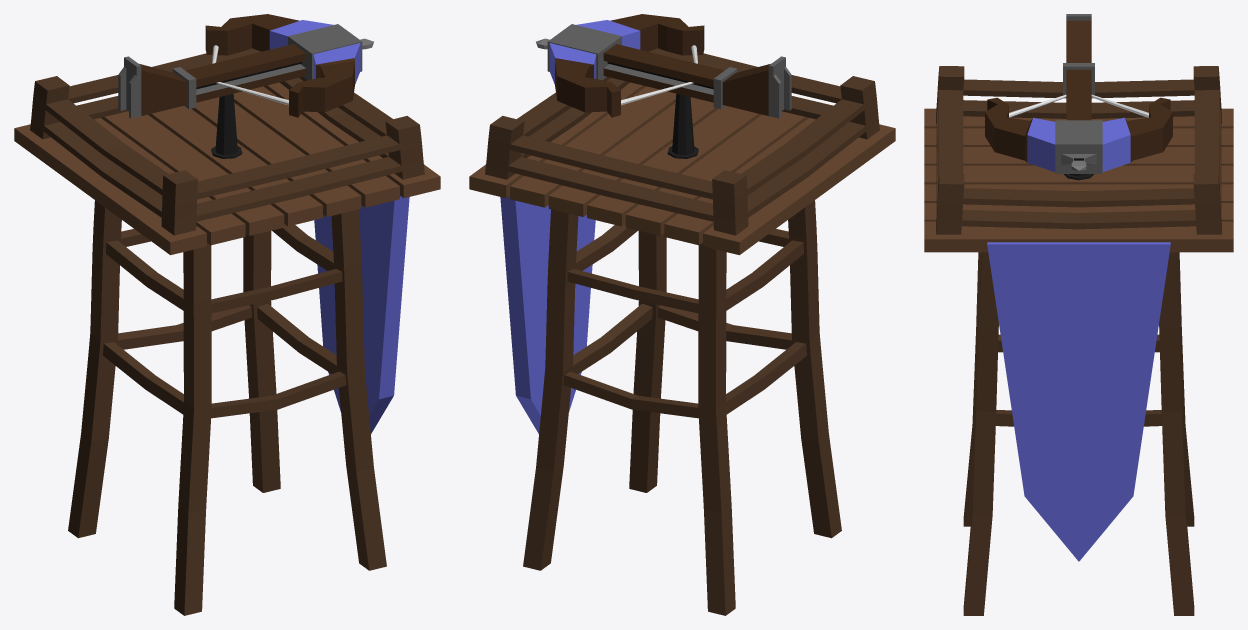
Rendered from ArcherTower1.fbx.
3 renders of one model, left to right at view 1: azimuth 30°, elevation 25°; view 2: azimuth 150°, elevation 25°; view 3: azimuth 270°, elevation 25°, orthographic.
Visible parts, largest first — view 1: Tower1, Bow1; view 2: Tower1, Bow1; view 3: Tower1, Bow1.
Boxes of the visible parts, x1,y1,x2,y2 form: Tower1: (14,48,440,615); Bow1: (118,14,373,158); Tower1: (469,48,895,615); Bow1: (536,14,791,158); Tower1: (924,66,1233,615); Bow1: (985,14,1172,180).
Size of the model in its own units: 2.32 by 4.01 by 2.22.
